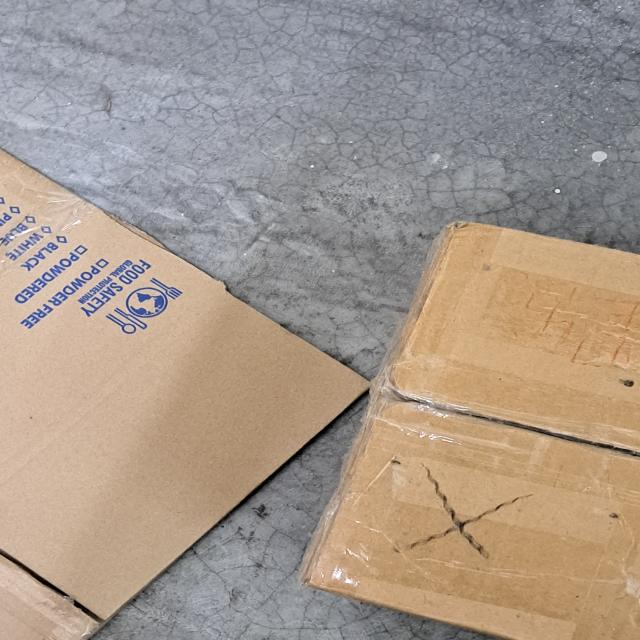cardboard: (0, 147, 370, 639), (308, 222, 640, 640)
